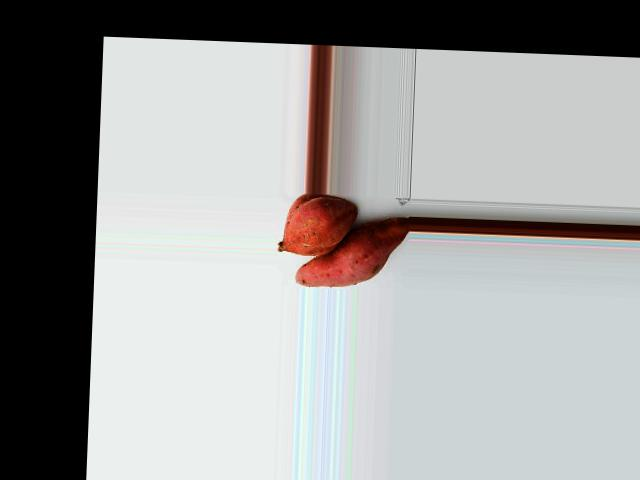sweet_potato: (276, 200, 353, 252)
